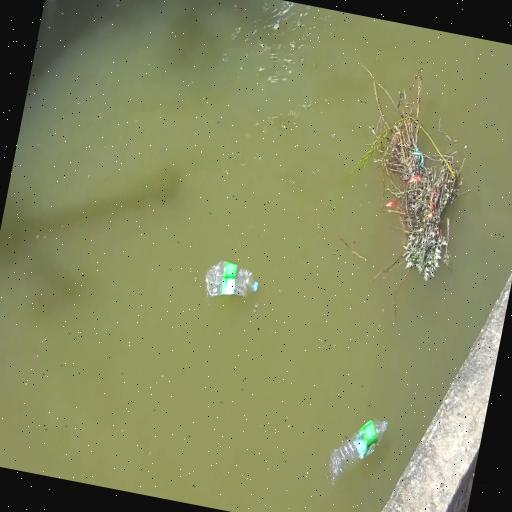plastic: (328, 420, 387, 483), (205, 261, 258, 297), (253, 282, 258, 292)
twig: (358, 69, 461, 280)
